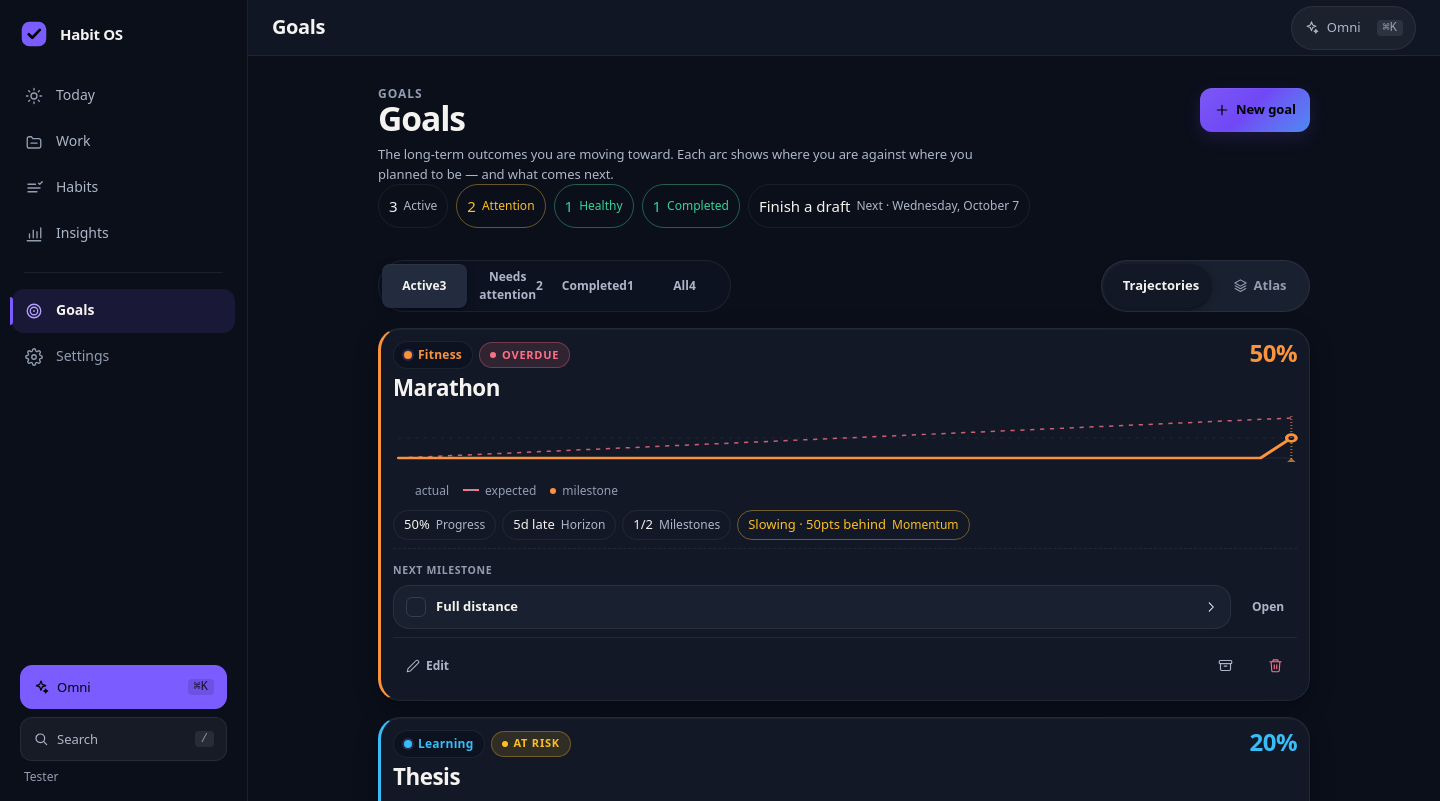
Test case: Step 6B — Goals Overview › health presentation is unified: On track / At risk / Overdue / Completed
Expected: the heading "Goals" is shown, [378,95,465,141]
Expected: the text "At risk" is shown, [490,730,571,756]
Click the tab "Completed 1".
click(598, 286)  # box [556,264,640,308]
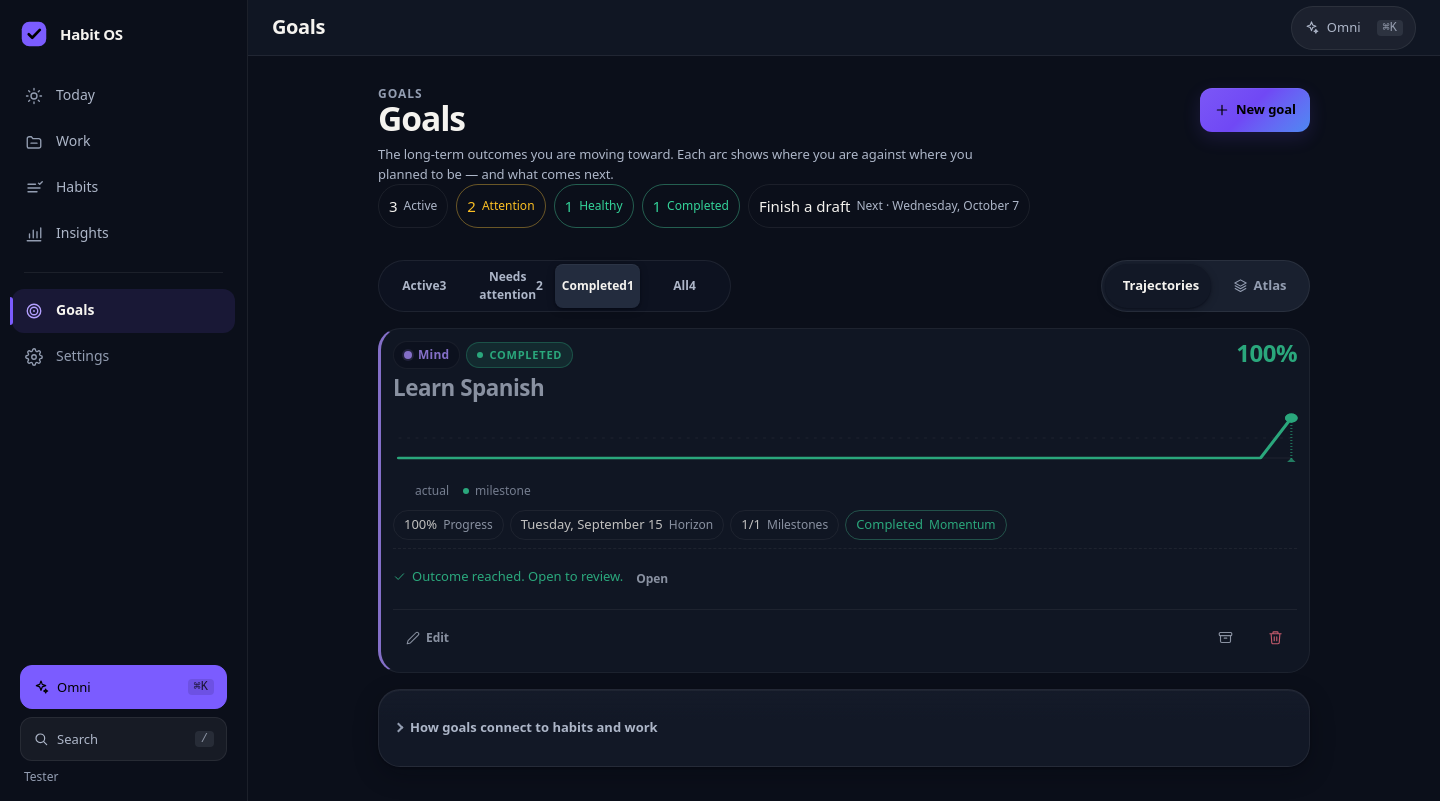
Expected: the text "Outcome reached. Open to review." is shown, [393,566,623,586]
